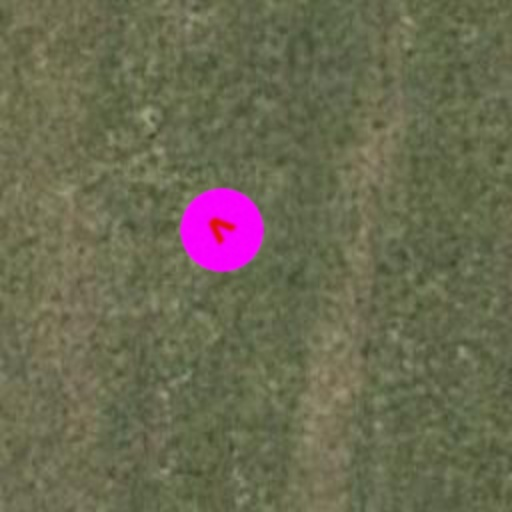circle: (162, 170, 282, 290)
